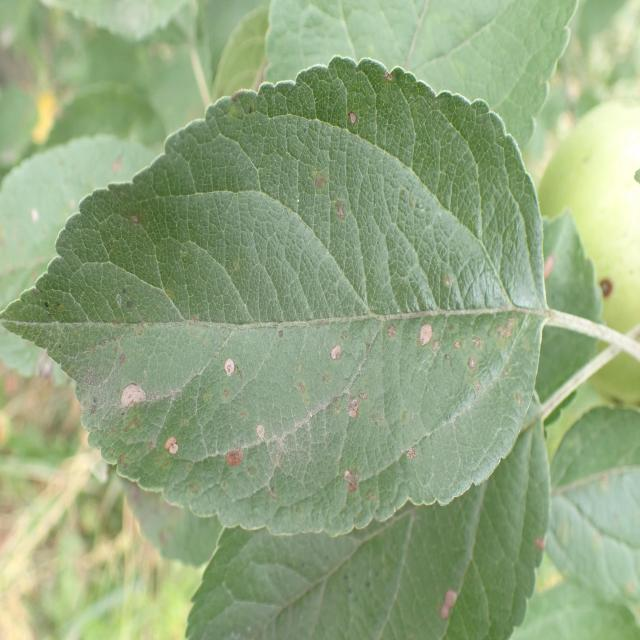frog-eye-leaf-spot: (0, 54, 548, 538), (185, 386, 552, 640)
